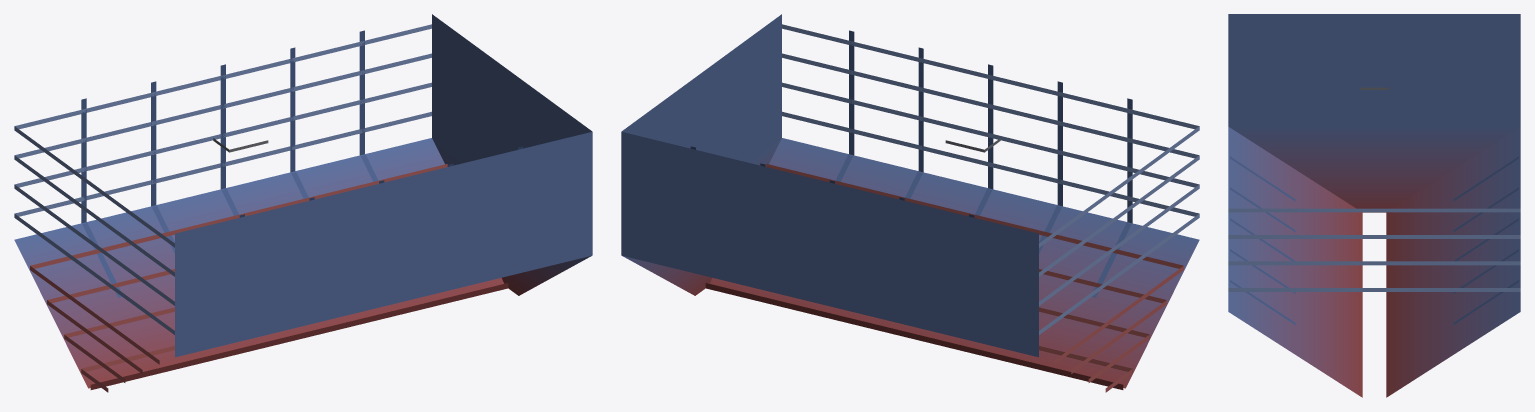
File: cargo_hold.glb
The picture shows the model from 3 angles, left to right: view 1: azimuth 30°, elevation 25°; view 2: azimuth 150°, elevation 25°; view 3: azimuth 270°, elevation 25°; orthographic projection. The views are drawn at different scales.
Visible parts, largest first — view 1: world; view 2: world; view 3: world.
Part boxes in pixels (x1,y1,x2,y2): world: (14,14,592,392); world: (621,14,1199,392); world: (1228,14,1520,397).
Size of the model in its own units: 30 by 15 by 20.
